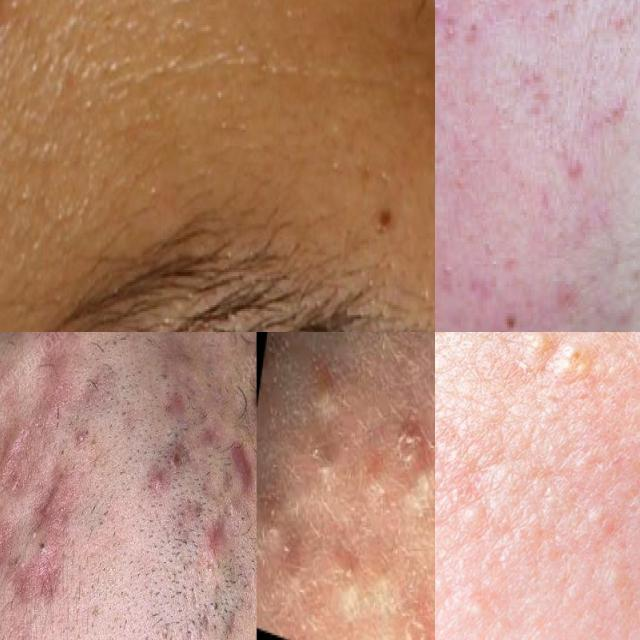acne_scars: (224, 430, 256, 509)
comedone: (292, 346, 348, 431), (298, 427, 344, 513), (257, 463, 294, 564), (364, 195, 397, 248), (29, 517, 59, 568)
cystic: (232, 332, 256, 426)
milium: (493, 332, 610, 394)
sebo-crystan-conglo: (400, 405, 435, 524)
